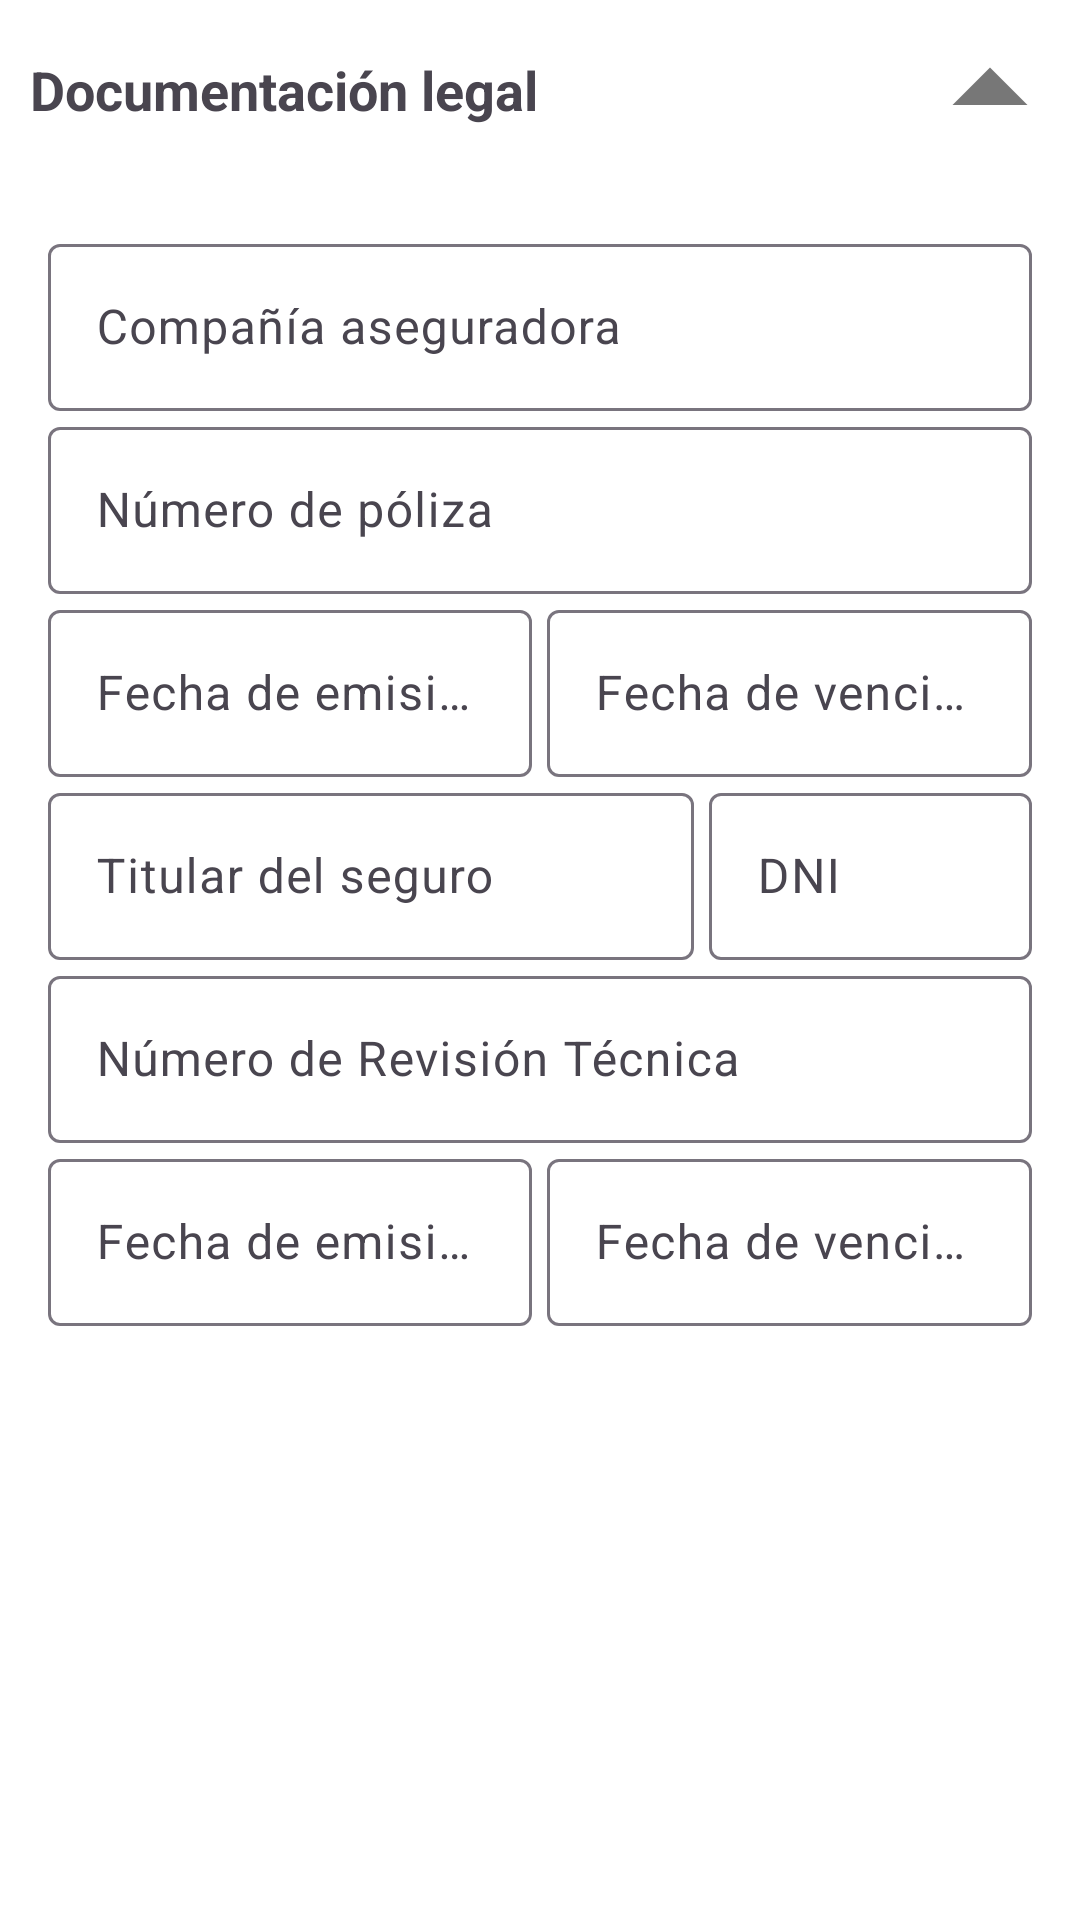

Icon bounding boxes for this 1080*1920 phone screenshot, format detection(x1, y1, x2, y2):
drop up: detection(953, 68, 1027, 105)
